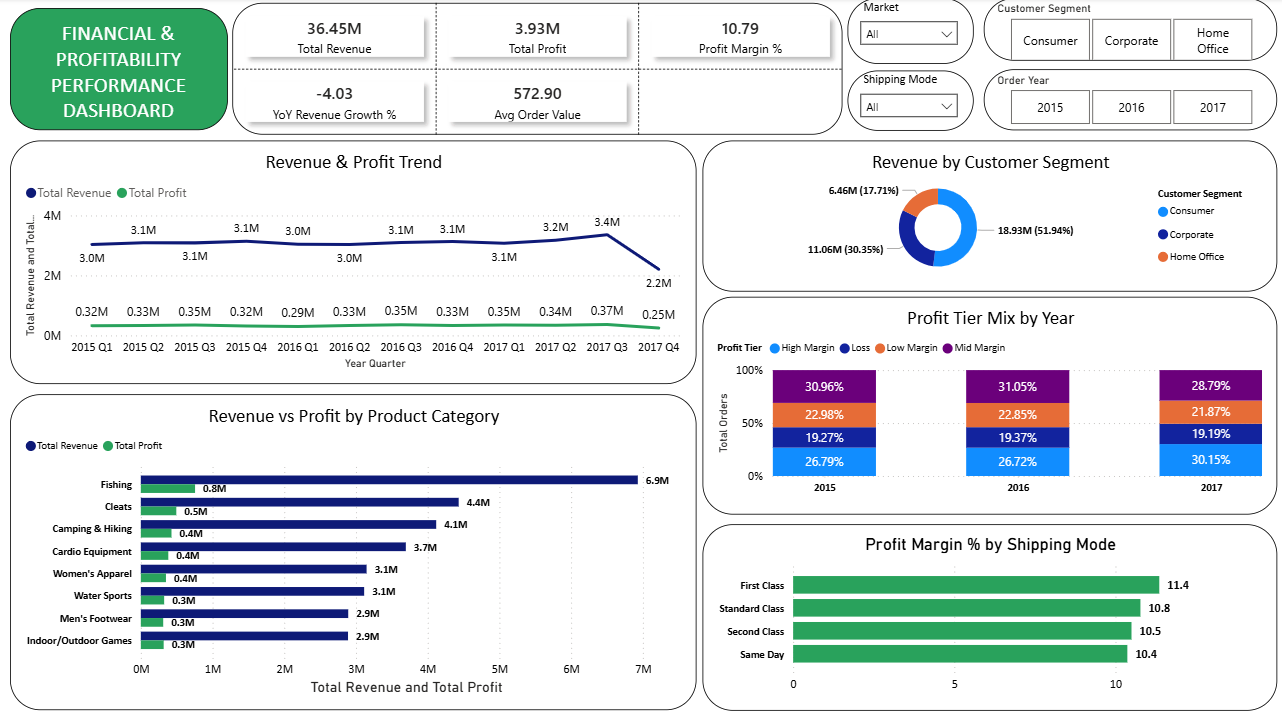

What the dashboard file says about the page in this screenshot:
{"tool":"powerbi","page":{"name":"Page 2","canvas":[1280,720],"ordinal":1},"visuals":[{"type":"cardVisual","fields":{"Data":["DAX Column.Total Revenue","DAX Column.Total Profit","DAX Column.Profit Margin %","DAX Column.YoY Revenue Growth %","DAX Column.Avg Order Value"]},"box":[226.4,0,617,141.8],"z":0},{"type":"lineChart","title":"Revenue & Profit Trend","fields":{"Y":["DAX Column.Total Revenue","DAX Column.Total Profit"],"Category":["Dataset.Year Quarter"]},"box":[10,141.8,682.9,242.6],"z":1000},{"type":"clusteredBarChart","fields":{"Y":["DAX Column.Profit Margin %"],"Category":["Dataset.Shipping Mode"]},"box":[699.1,523.7,572.2,185.3],"z":2000},{"type":"clusteredBarChart","title":"Revenue vs Profit by Product Category","fields":{"Category":["Dataset.Category Name"],"Y":["DAX Column.Total Revenue","DAX Column.Total Profit"]},"box":[10,394.3,682.9,314.7],"z":3000},{"type":"donutChart","title":"Revenue by Customer Segment ","fields":{"Y":["DAX Column.Total Revenue"],"Category":["Dataset.Customer Segment"]},"box":[699.1,141.8,572.2,150.5],"z":4000},{"type":"hundredPercentStackedColumnChart","title":"Profit Tier Mix by Year","fields":{"Y":["DAX Column.Total Orders"],"Series":["Dataset.Profit Tier"],"Category":["Dataset.Order Year"]},"box":[699.1,297.3,572.2,216.4],"z":5000},{"type":"slicer","fields":{"Values":["Dataset.Customer Segment"]},"box":[979,0,292.3,62.2],"z":6000},{"type":"slicer","fields":{"Values":["Dataset.Order Year"]},"box":[979,70.9,292.3,61],"z":7000},{"type":"slicer","fields":{"Values":["Dataset.Shipping Mode"]},"box":[843.4,72.1,125.6,59.7],"z":8000},{"type":"slicer","fields":{"Values":["Dataset.Market"]},"box":[843.4,0,125.6,65.9],"z":9000},{"type":"textbox","box":[10,10,216.4,121.9],"z":10000}]}

Visuals, with their boxes in screenshot pixels (x1, y1, x2, y2), scaled from the page's 1280x720 canvas onto the 1282x716 screenshot:
cardVisual - DAX Column.Total Revenue x DAX Column.Total Profit: {"x1": 227, "y1": 0, "x2": 845, "y2": 141}
"Revenue & Profit Trend" lineChart: {"x1": 10, "y1": 141, "x2": 694, "y2": 382}
clusteredBarChart - DAX Column.Profit Margin % x Dataset.Shipping Mode: {"x1": 700, "y1": 521, "x2": 1273, "y2": 705}
"Revenue vs Profit by Product Category" clusteredBarChart: {"x1": 10, "y1": 392, "x2": 694, "y2": 705}
"Revenue by Customer Segment " donutChart: {"x1": 700, "y1": 141, "x2": 1273, "y2": 291}
"Profit Tier Mix by Year" hundredPercentStackedColumnChart: {"x1": 700, "y1": 296, "x2": 1273, "y2": 511}
slicer - Dataset.Customer Segment: {"x1": 981, "y1": 0, "x2": 1273, "y2": 62}
slicer - Dataset.Order Year: {"x1": 981, "y1": 71, "x2": 1273, "y2": 131}
slicer - Dataset.Shipping Mode: {"x1": 845, "y1": 72, "x2": 971, "y2": 131}
slicer - Dataset.Market: {"x1": 845, "y1": 0, "x2": 971, "y2": 66}
textbox: {"x1": 10, "y1": 10, "x2": 227, "y2": 131}
